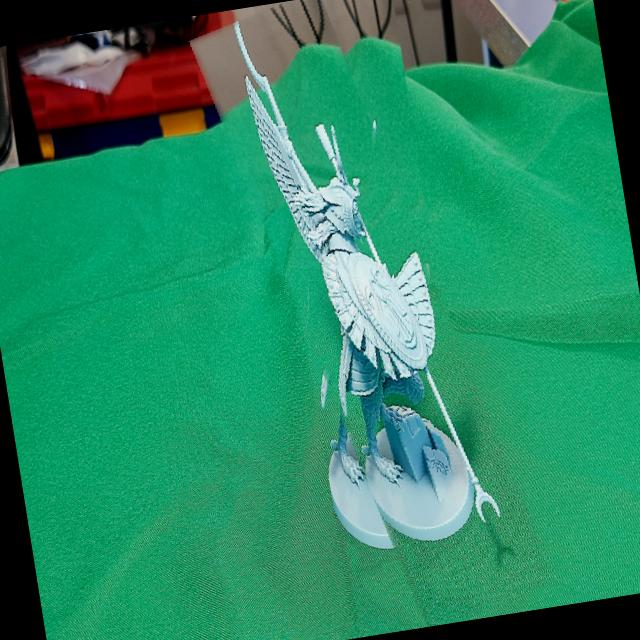isis: (219, 0, 525, 640)
